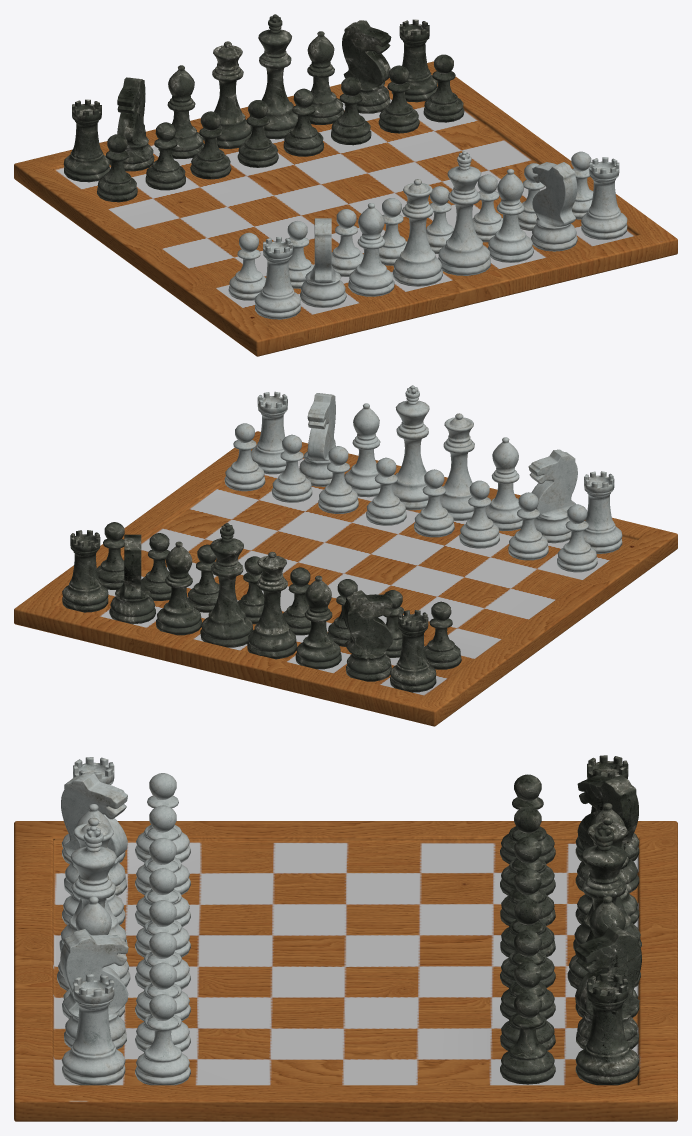
The model's file is chess_board.fbx.
3 renders of one model, top to bottom at view 1: azimuth 30°, elevation 25°; view 2: azimuth 150°, elevation 25°; view 3: azimuth 270°, elevation 25°, orthographic. The views are drawn at different scales.
Visible parts, largest first — view 1: chess_board, king1, knight4, knight1, queen1, king2, queen2, rook1, rook3, rook4, bishop3, bishop1 (+21 smaller); view 2: chess_board, knight2, king2, knight3, queen2, king1, rook2, rook4, queen1, bishop4, bishop2, knight1 (+21 smaller); view 3: chess_board, rook2, rook1, knight4, knight1, knight3, knight2, pawn14, pawn7, king2, king1, pawn6 (+21 smaller).
Part boxes in pixels (x1=…): chess_board: x1=14, y1=61, x2=677, y2=356; king1: x1=438, y1=151, x2=490, y2=275; knight4: x1=531, y1=162, x2=577, y2=251; knight1: x1=342, y1=20, x2=391, y2=113; queen1: x1=392, y1=179, x2=442, y2=286; king2: x1=249, y1=14, x2=297, y2=139; queen2: x1=203, y1=41, x2=251, y2=148; rook1: x1=581, y1=157, x2=627, y2=239; rook3: x1=254, y1=237, x2=300, y2=319; rook4: x1=63, y1=99, x2=109, y2=182; bishop3: x1=348, y1=203, x2=394, y2=296; bishop1: x1=487, y1=169, x2=533, y2=262; chess_board: x1=14, y1=431, x2=677, y2=726; knight2: x1=343, y1=590, x2=393, y2=681; king2: x1=200, y1=523, x2=253, y2=647; knight3: x1=528, y1=449, x2=577, y2=543; queen2: x1=247, y1=551, x2=297, y2=659; king1: x1=392, y1=385, x2=429, y2=510; rook2: x1=62, y1=530, x2=108, y2=612; rook4: x1=390, y1=610, x2=436, y2=692; queen1: x1=440, y1=413, x2=474, y2=520; bishop4: x1=295, y1=575, x2=341, y2=669; bishop2: x1=156, y1=541, x2=201, y2=635; knight1: x1=109, y1=534, x2=155, y2=624; chess_board: x1=14, y1=821, x2=677, y2=1121; rook2: x1=575, y1=973, x2=639, y2=1085; rook1: x1=61, y1=974, x2=125, y2=1085; knight4: x1=60, y1=929, x2=128, y2=1049; knight1: x1=575, y1=927, x2=641, y2=1049; knight3: x1=61, y1=772, x2=127, y2=895; knight2: x1=575, y1=775, x2=639, y2=893; pawn14: x1=500, y1=991, x2=555, y2=1084; pawn7: x1=135, y1=994, x2=190, y2=1085; king2: x1=567, y1=824, x2=640, y2=988; king1: x1=57, y1=826, x2=130, y2=990; pawn6: x1=135, y1=962, x2=190, y2=1051.
Size of the model in its own units: 9.43 by 2.71 by 9.43.
